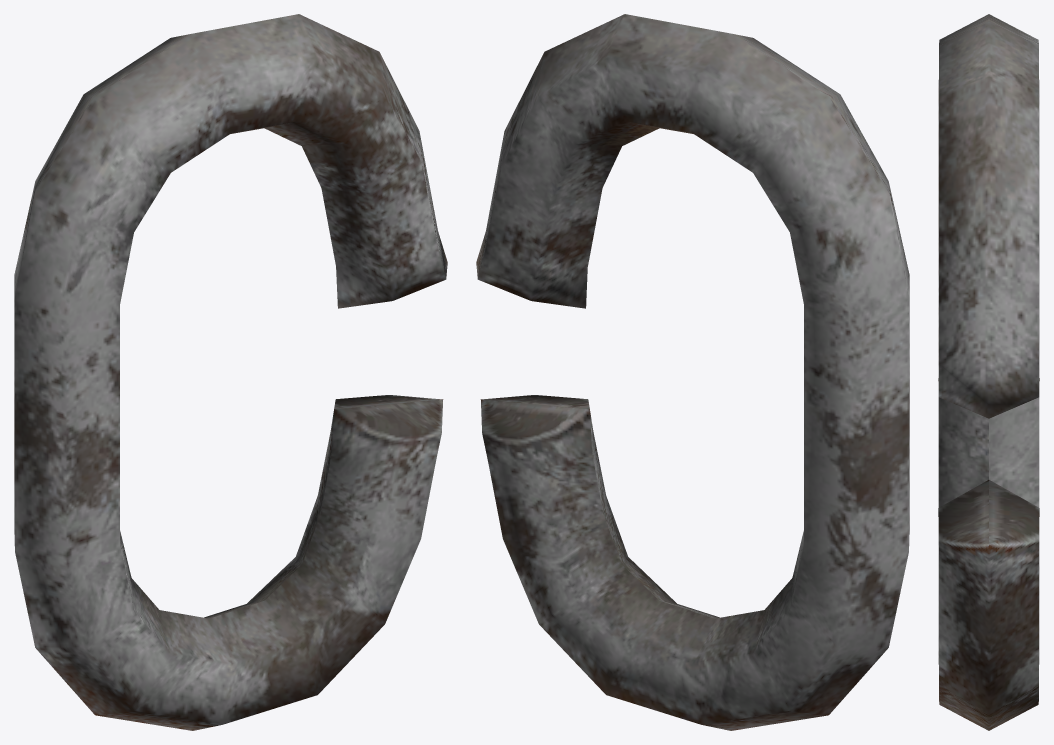
The model's file is chainBroken.FBX.
The picture shows the model from 3 angles, left to right: view 1: azimuth 30°, elevation 25°; view 2: azimuth 150°, elevation 25°; view 3: azimuth 270°, elevation 25°; orthographic projection. The views are drawn at different scales.
Parts seen in each view (by area): view 1: SM_ChainBroken; view 2: SM_ChainBroken; view 3: SM_ChainBroken.
Part boxes in pixels (x1,y1,x2,y2): SM_ChainBroken: (14, 14, 447, 730); SM_ChainBroken: (476, 14, 909, 730); SM_ChainBroken: (938, 14, 1039, 730).
Size of the model in its own units: 2.67 by 4.11 by 0.5666.
1 material, 1 textured.
